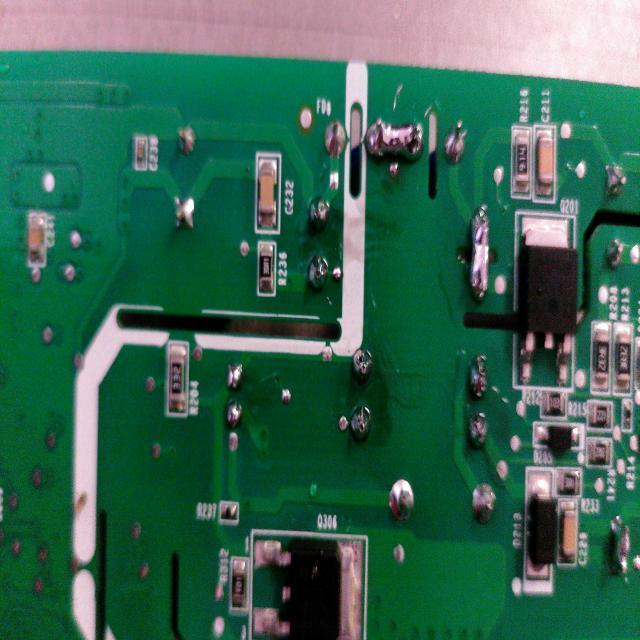Soldering shorted: (357, 118, 429, 164), (468, 196, 492, 304), (608, 512, 634, 582)
